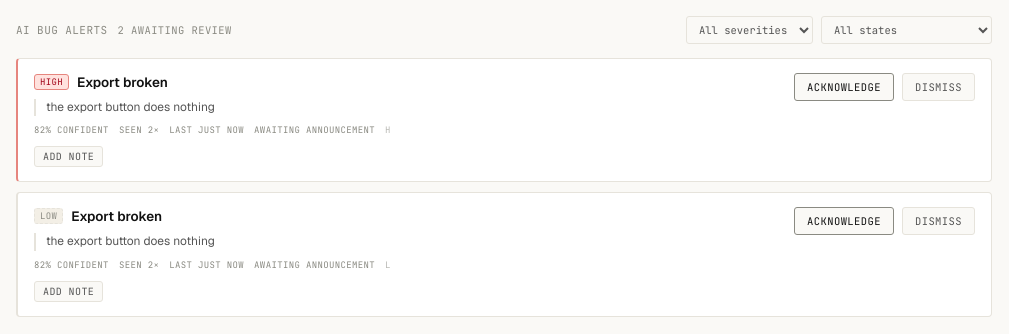
Test: BugAlertsPage › filters by severity
Select "High" in the dropdown named "Filter by severity" at (750, 30), box [686,16,813,44]
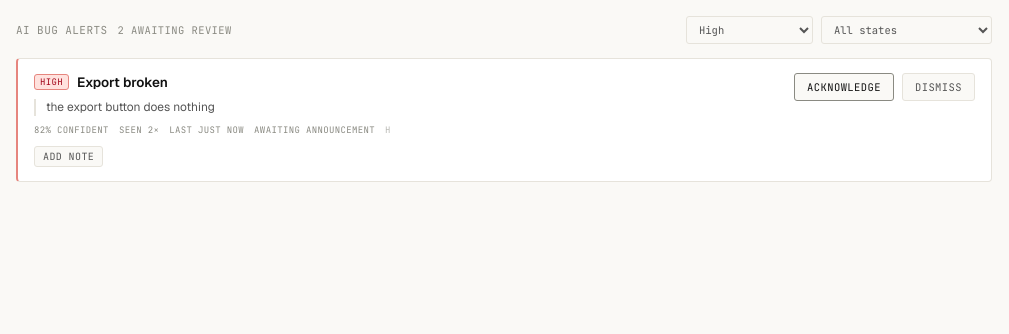
Expected: the list item shows "h", [385,124,391,136]
Expected: the number of list items is 1, [16,58,992,182]
